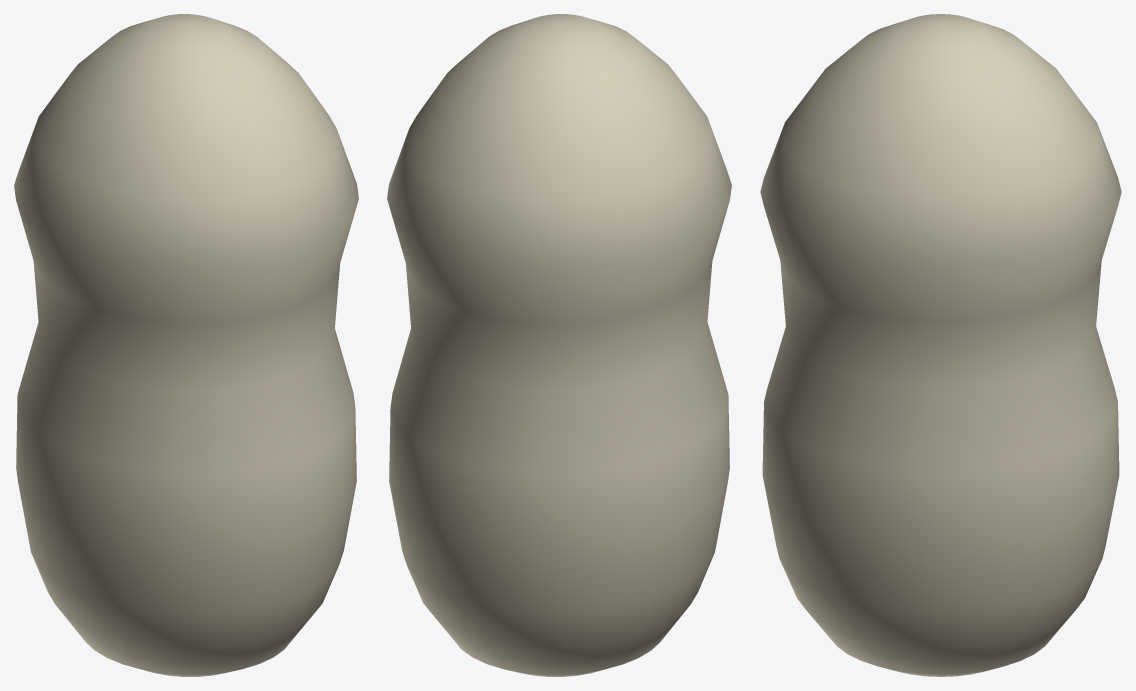
The model's file is lleg.gltf.
3 views of the same model, side by side, from view 1: azimuth 30°, elevation 25°; view 2: azimuth 150°, elevation 25°; view 3: azimuth 270°, elevation 25° (orthographic).
Parts seen in each view (by area): view 1: Sphere.141; view 2: Sphere.141; view 3: Sphere.141.
Part boxes in pixels (x1,y1,x2,y2): Sphere.141: (14,14,358,676); Sphere.141: (387,14,731,676); Sphere.141: (760,14,1121,676).
Size of the model in its own units: 0.0754 by 0.1549 by 0.0799.
1 material, 1 textured.
